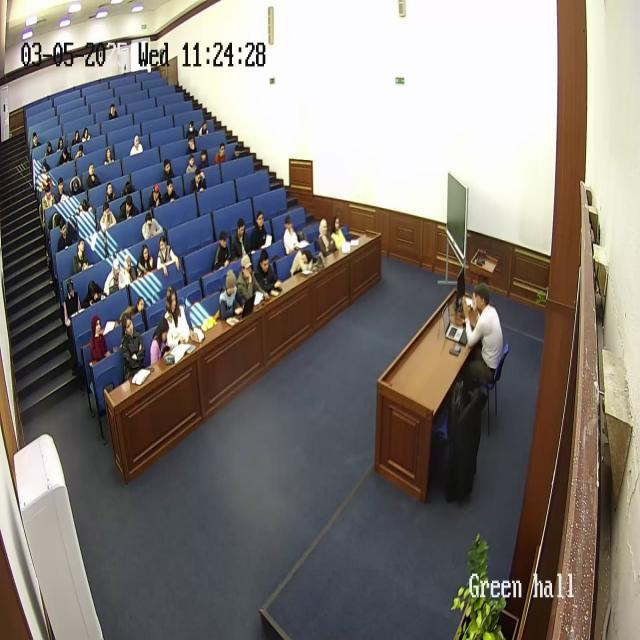person: (457, 284, 503, 390), (119, 313, 147, 382), (165, 289, 194, 351), (235, 252, 261, 305), (219, 268, 244, 321), (253, 249, 281, 296), (150, 317, 176, 367), (103, 252, 130, 296), (88, 312, 110, 364), (63, 278, 85, 326), (155, 232, 179, 275), (212, 228, 235, 268), (289, 245, 315, 278), (250, 211, 270, 253), (230, 218, 250, 260), (56, 220, 78, 258), (282, 215, 302, 255), (74, 236, 94, 274), (140, 207, 162, 241), (41, 180, 57, 226), (134, 241, 154, 277), (98, 199, 116, 239), (331, 215, 350, 252), (316, 216, 334, 255), (82, 279, 104, 309), (119, 193, 139, 223), (146, 182, 162, 214), (190, 163, 207, 193), (162, 178, 179, 205), (85, 164, 100, 191), (116, 180, 136, 200), (160, 158, 176, 182), (185, 152, 199, 179), (103, 181, 117, 207), (69, 172, 83, 196), (130, 134, 144, 156), (185, 119, 199, 141), (216, 140, 228, 164), (198, 146, 209, 172), (134, 295, 149, 312), (104, 145, 116, 166), (71, 129, 83, 147), (197, 119, 209, 136), (108, 102, 119, 120), (72, 148, 88, 160), (44, 142, 56, 158), (30, 132, 40, 150), (188, 138, 198, 156), (82, 127, 92, 144), (234, 143, 244, 159), (57, 136, 68, 150), (59, 150, 70, 162)
